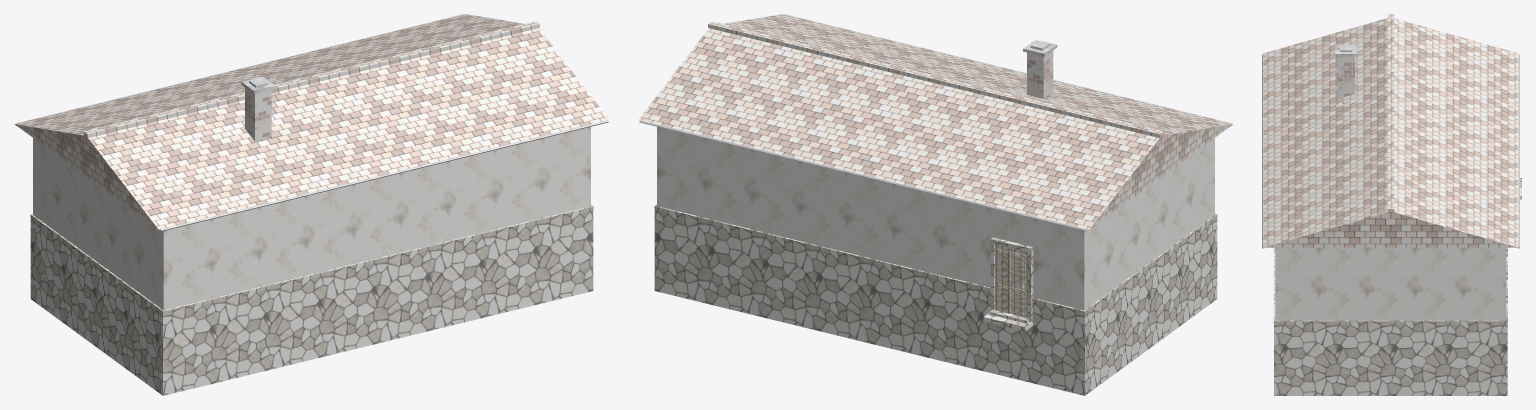
3 renders of one model, left to right at view 1: azimuth 30°, elevation 25°; view 2: azimuth 150°, elevation 25°; view 3: azimuth 270°, elevation 25°, orthographic. The views are drawn at different scales.
Visible parts, largest first — view 1: b1085383215; view 2: b1085383215; view 3: b1085383215.
Boxes of the visible parts, x1=… form: b1085383215: x1=14, y1=14, x2=609, y2=395; b1085383215: x1=638, y1=14, x2=1233, y2=395; b1085383215: x1=1262, y1=14, x2=1521, y2=395.
Size of the model in its own units: 13.42 by 7.12 by 7.56.
Materials: 14 (14 with a texture image).
